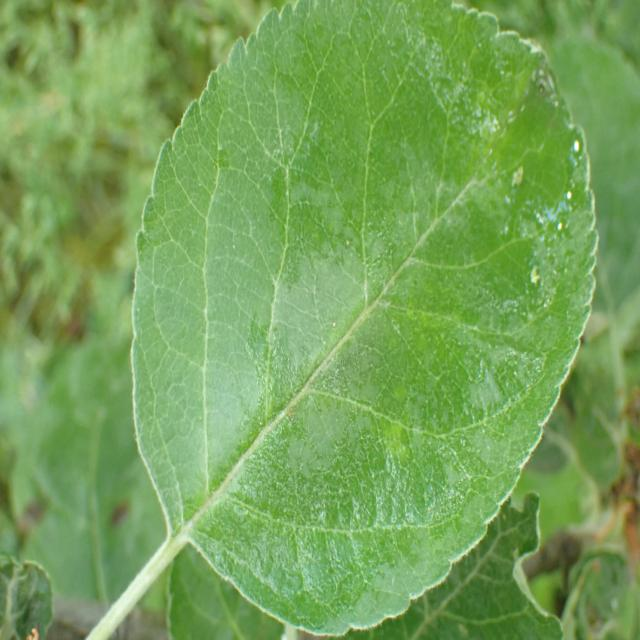scab: (177, 200, 591, 567)
